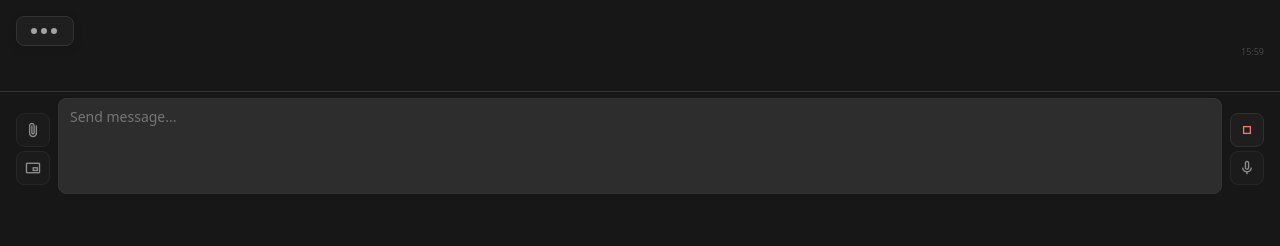
ChatModule in-flight state and identity › rehydrates a remounted view from the backend: thinking bubble back, sends queue
Expected: the element with class "assistant" is shown, [16,16,1264,57]
A new message while the run is in flight QUEUES — no backend call, no error.
In the text box with placeholder "Send message...": (640, 146) [58,98,1222,194], type "extra message"
Then press Enter
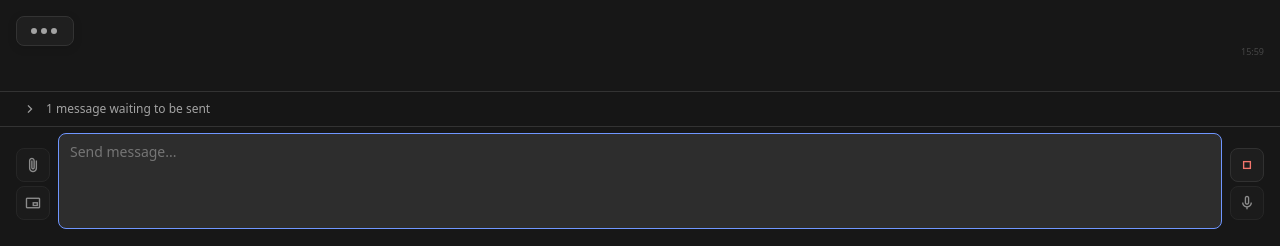
Expected: the button "1 message waiting to be sent" is shown, [16,100,216,118]
